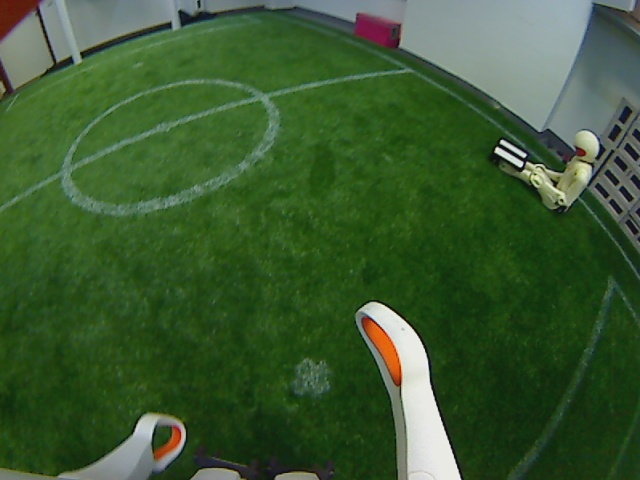robot: (489, 122, 600, 215)
